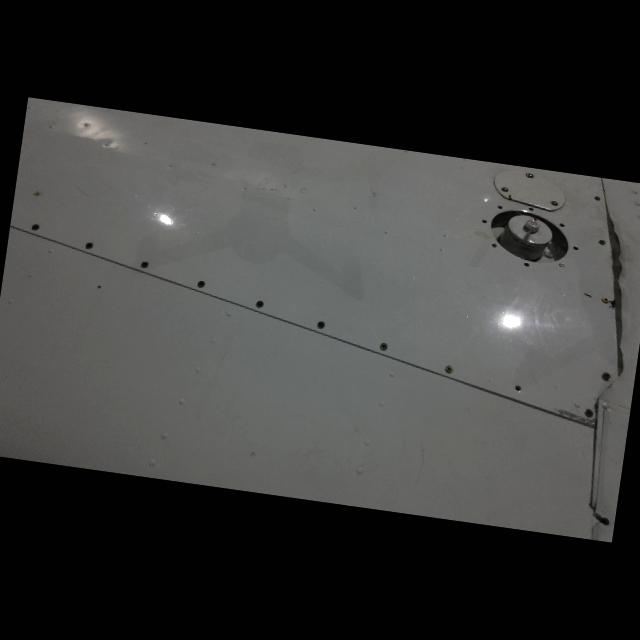Missing Fastener: (506, 380, 528, 398), (556, 220, 567, 230), (520, 260, 530, 270), (480, 216, 489, 227), (489, 241, 498, 250), (526, 205, 537, 212), (493, 203, 504, 210), (572, 244, 580, 253)
dent: (578, 200, 640, 382)
